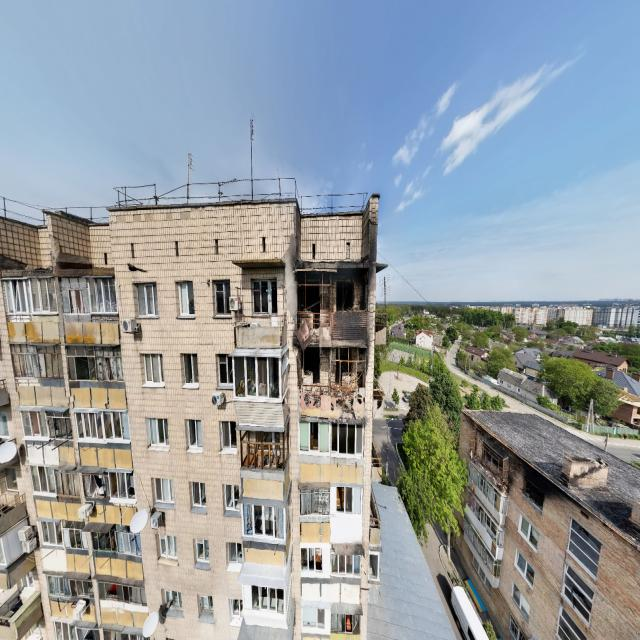broken_window: (250, 277, 277, 317), (134, 281, 159, 318), (212, 279, 232, 318), (176, 280, 195, 318), (180, 352, 199, 388)
building: (0, 187, 386, 638), (451, 406, 639, 638)
roof: (366, 479, 458, 638)
